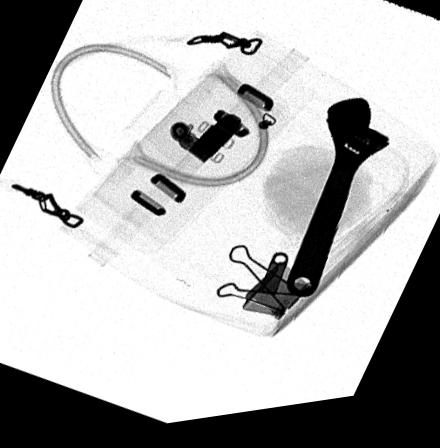Wrench: (283, 107, 392, 311)
